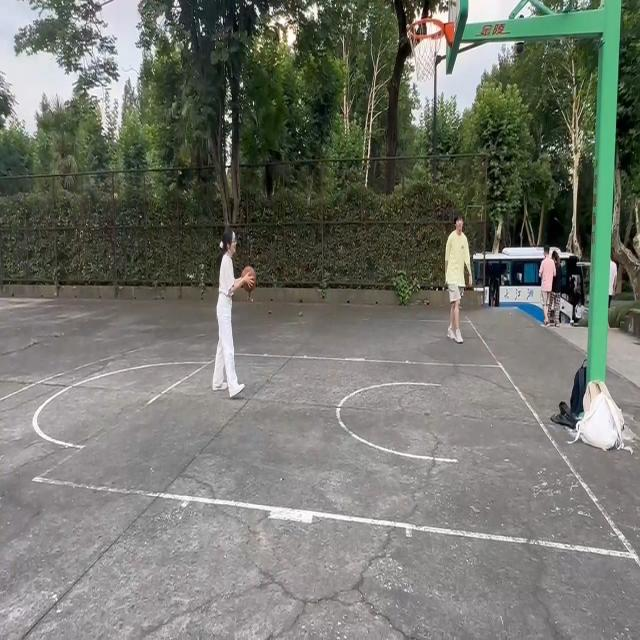basketball: (408, 18, 453, 116)
rim: (242, 266, 258, 291)
